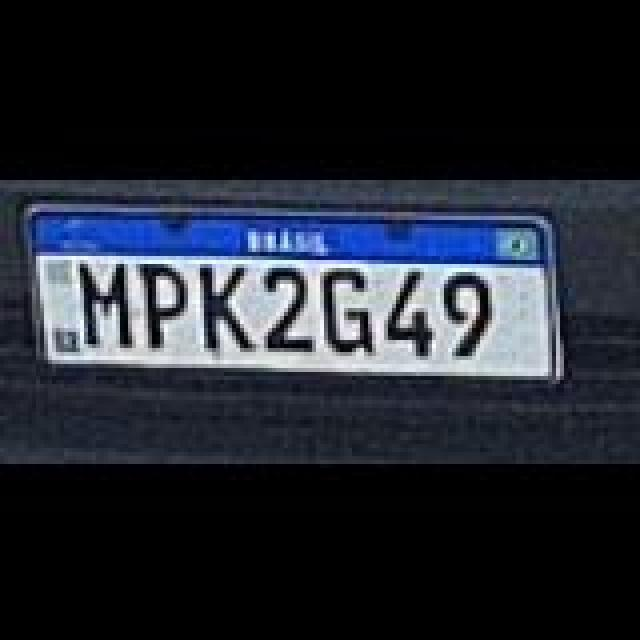2: (260, 264, 316, 352)
4: (384, 268, 440, 356)
9: (444, 270, 500, 354)
G: (320, 264, 376, 352)
K: (198, 260, 258, 348)
M: (76, 256, 140, 344)
P: (134, 260, 194, 348)
